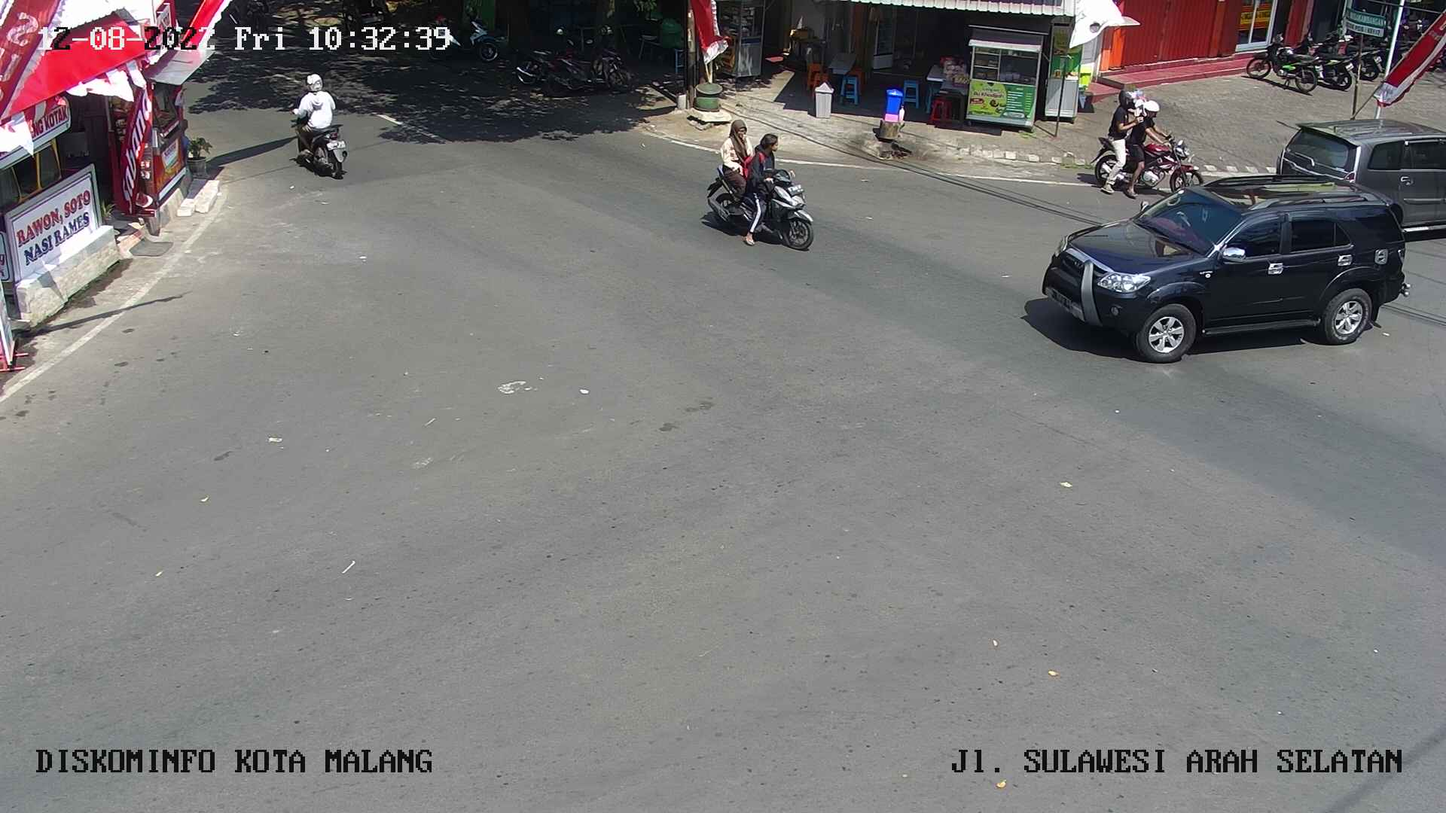with_helmet: (1092, 85, 1210, 202)
without_helmet: (692, 106, 824, 262), (284, 68, 360, 182)
